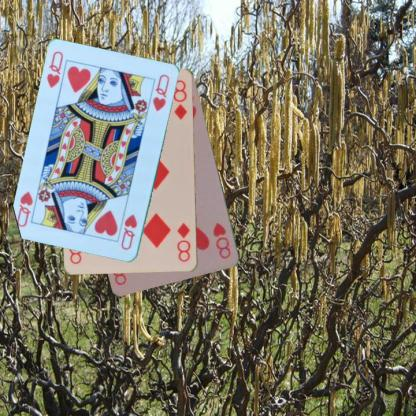8d: (174, 220, 192, 263)
8h: (210, 220, 233, 260)
Qh: (44, 48, 65, 90), (118, 211, 139, 252)
